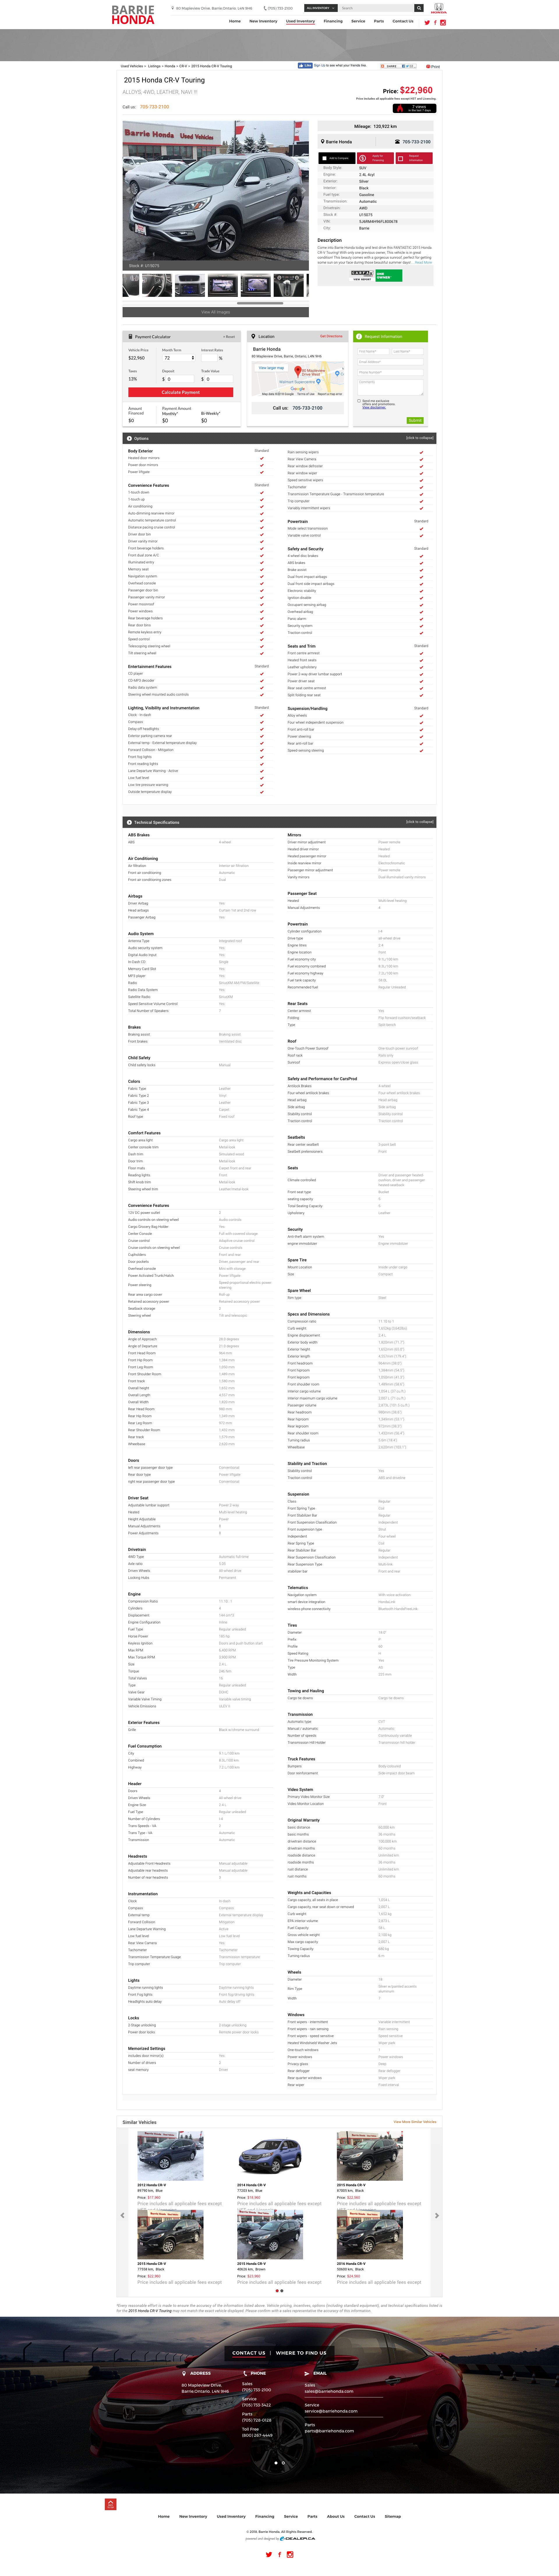car: (298, 184, 311, 197)
